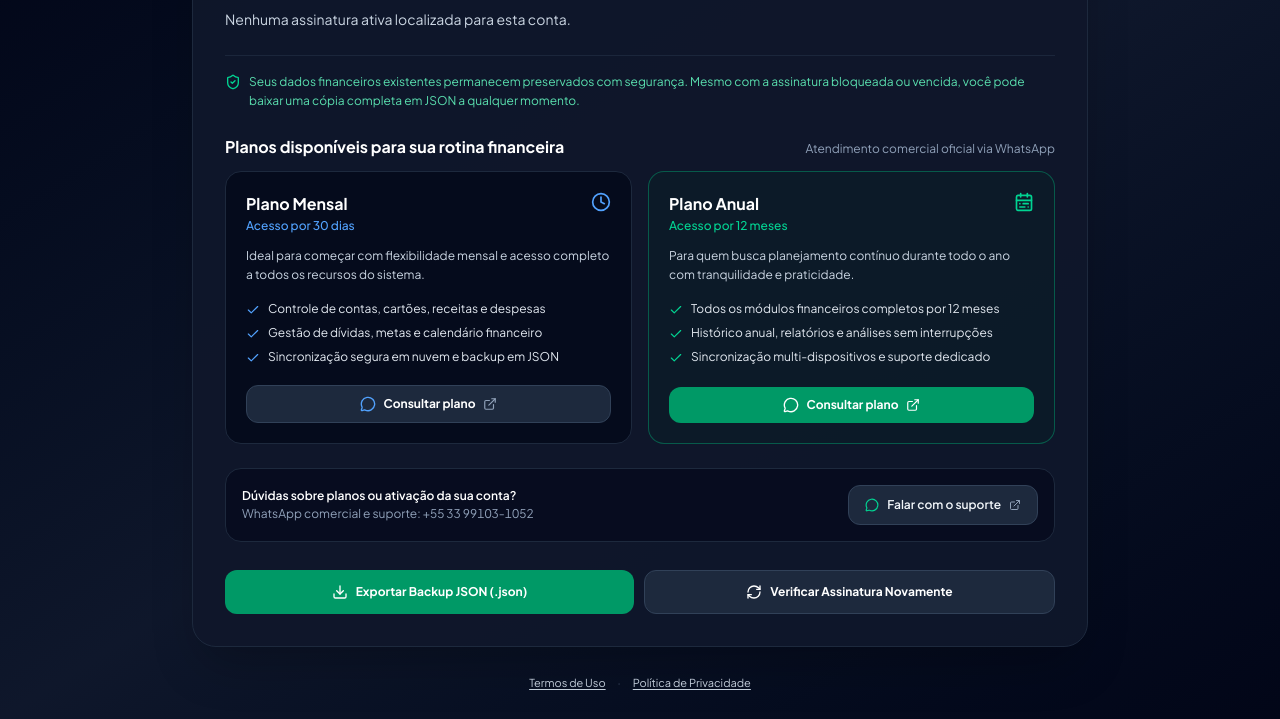
Test: Comercialização C1/C2 — Planos Mensal e Anual, WhatsApp Comercial, RLS e Exportação Segura (100% mocks) › 8. Revalidação após ativação de assinatura anual desbloqueia o acesso ao aplicativo financeiro
The image size is (1280, 719).
(page scrolled)
What coordinates should you click on to do the following:
click the button "Verificar Assinatura Novamente"
I would click on:
 (850, 592)
Its box is [644,570,1055,614].
(page scrolled)
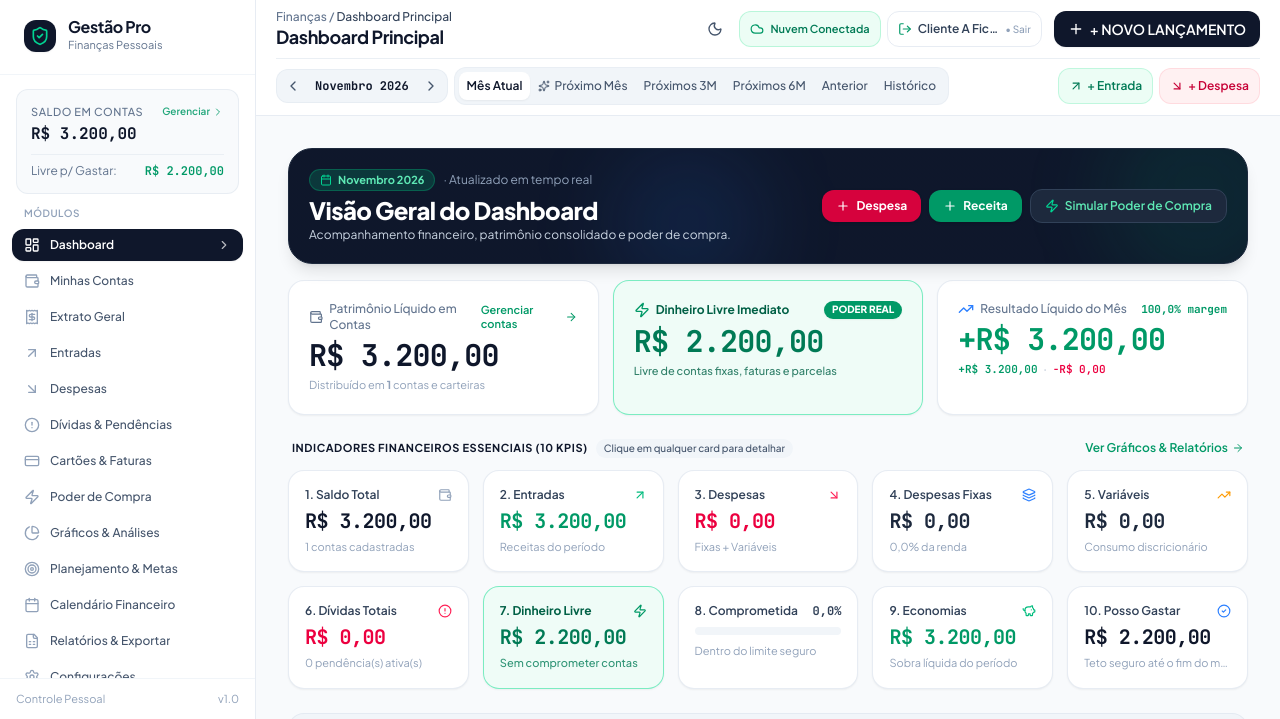
Expected: the text "Dashboard Principal" is shown, [336,9,452,24]
